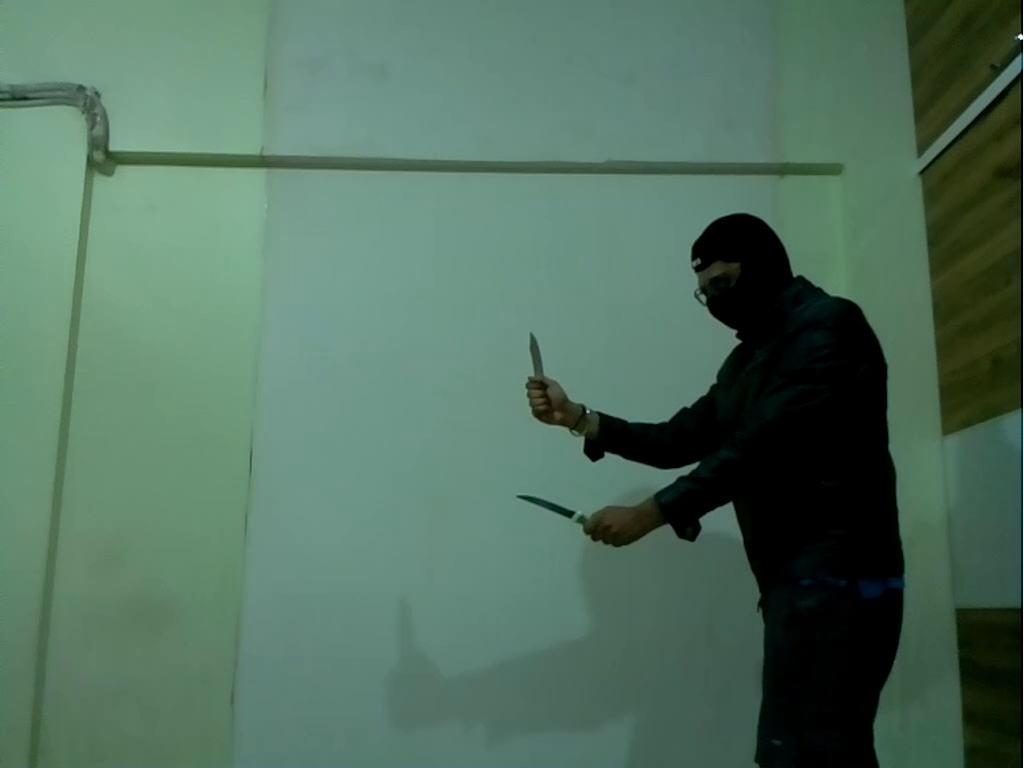knife: (502, 489, 603, 535), (517, 323, 551, 396)
